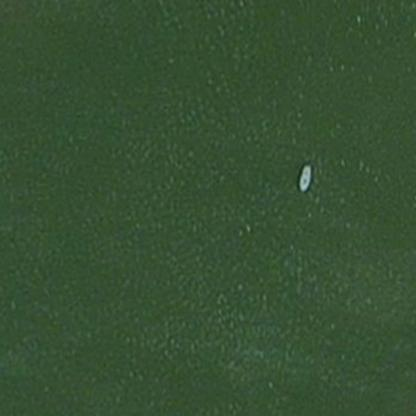ship: (286, 156, 318, 196)
